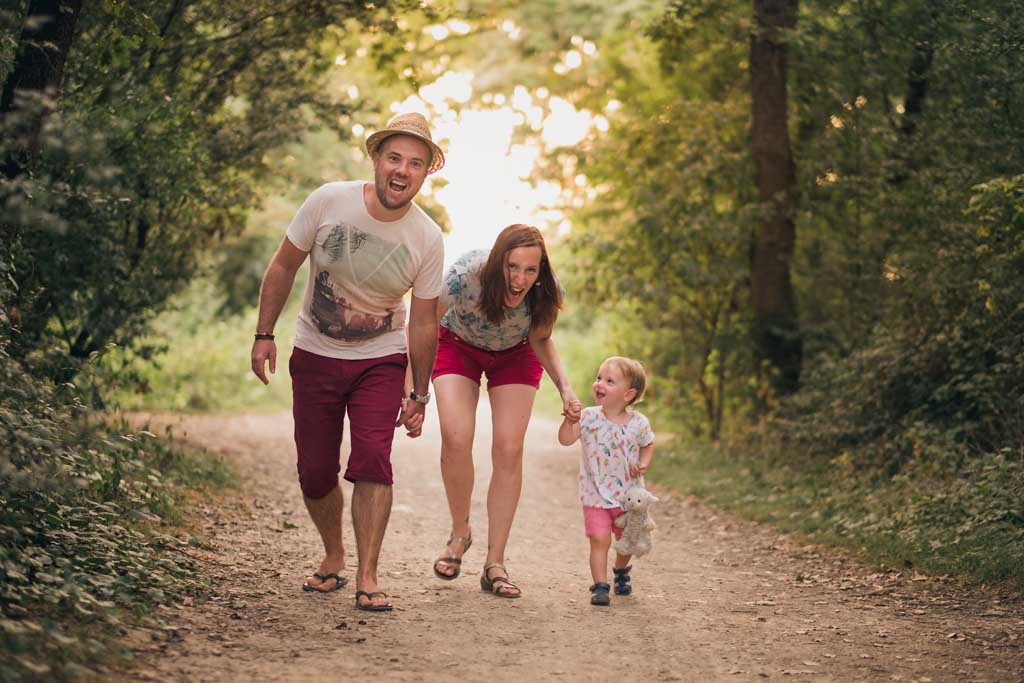without_mask: (368, 135, 433, 212), (494, 239, 539, 307), (589, 362, 638, 411)
